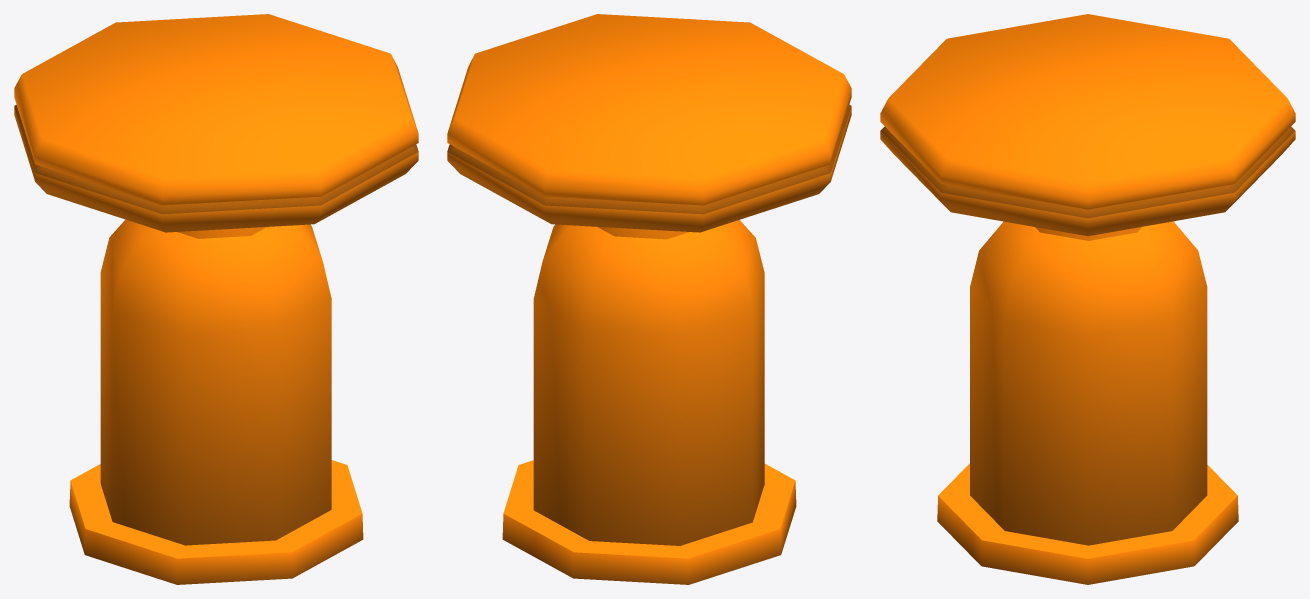
The model's file is bronze_grip_105.glb.
3 renders of one model, left to right at view 1: azimuth 30°, elevation 25°; view 2: azimuth 150°, elevation 25°; view 3: azimuth 270°, elevation 25°, orthographic.
Parts seen in each view (by area): view 1: bronze_grip_105; view 2: bronze_grip_105; view 3: bronze_grip_105.
Part boxes in pixels (bbox=[...]): bronze_grip_105: bbox=[14, 14, 418, 584]; bronze_grip_105: bbox=[447, 14, 851, 584]; bronze_grip_105: bbox=[880, 14, 1295, 584].
Bounding box in the file's own units: 2.94 × 3.31 × 2.94.
Materials: 1 (1 with a texture image).
